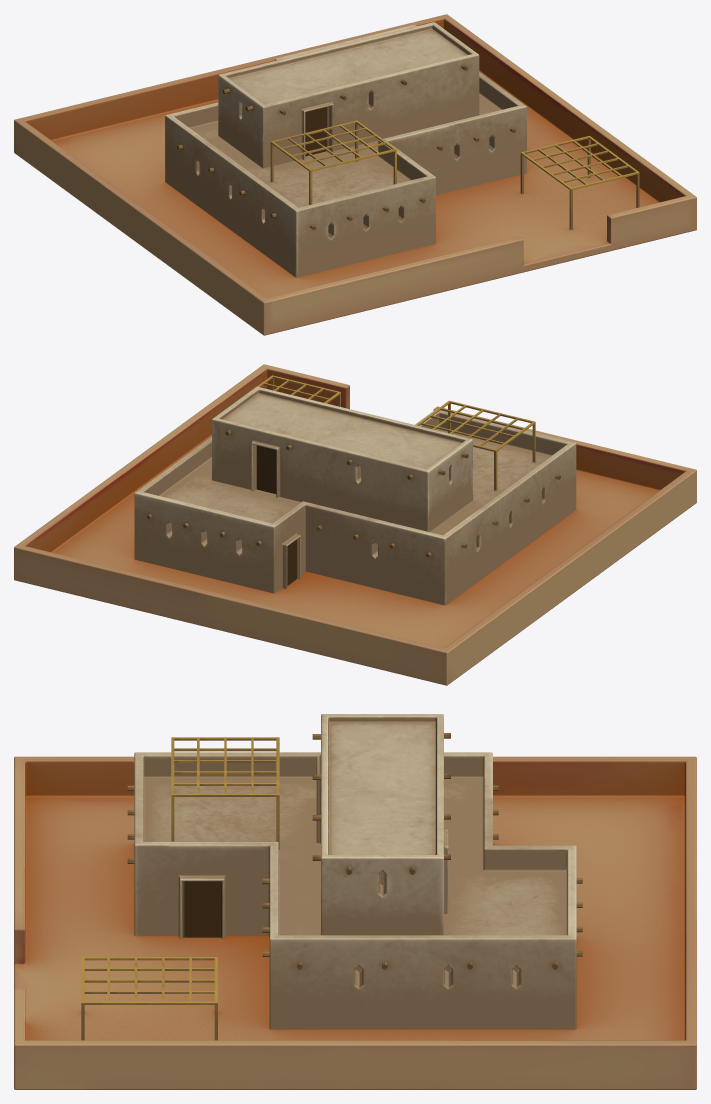
The model's file is Ancient Egyptian House Concept.obj.
3 views of the same model, one above another, from view 1: azimuth 30°, elevation 25°; view 2: azimuth 150°, elevation 25°; view 3: azimuth 270°, elevation 25° (orthographic). The views are drawn at different scales.
Visible parts, largest first — view 1: House; view 2: House; view 3: House.
Part boxes in pixels (left/top/right/bottom): House: left=14, top=14, right=696, bottom=335; House: left=14, top=364, right=696, bottom=685; House: left=14, top=714, right=696, bottom=1089.
Size of the model in its own units: 10 by 2.63 by 10.
1 material, 1 textured.
